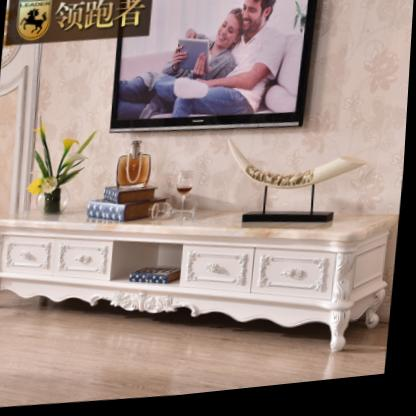TV stand: (0, 218, 401, 361)
